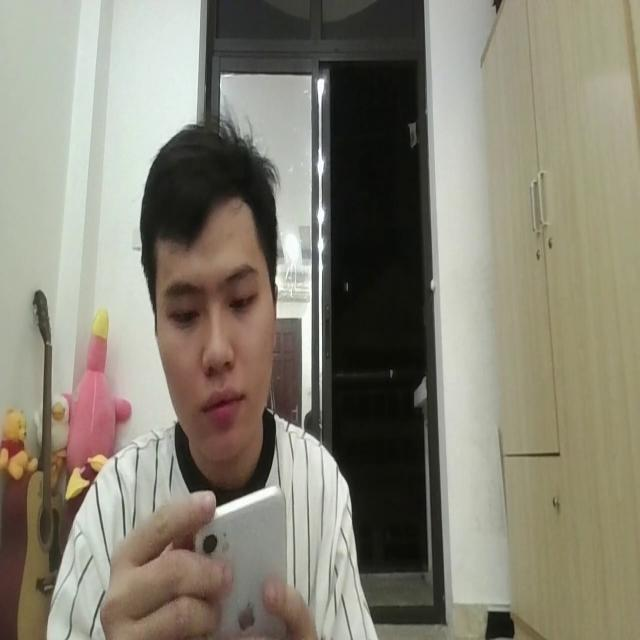phone: (193, 487, 288, 640)
student: (46, 115, 375, 640)
